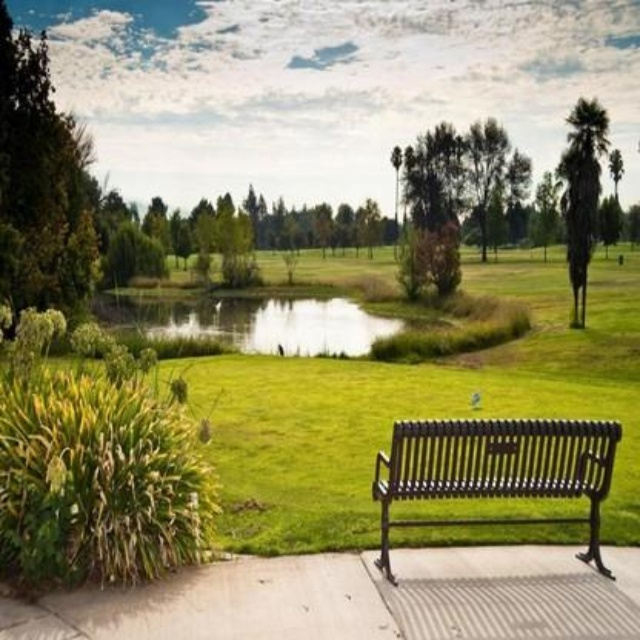obstacle: (342, 391, 629, 589)
